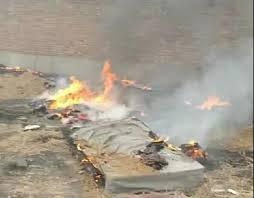fire: (45, 59, 123, 110)
